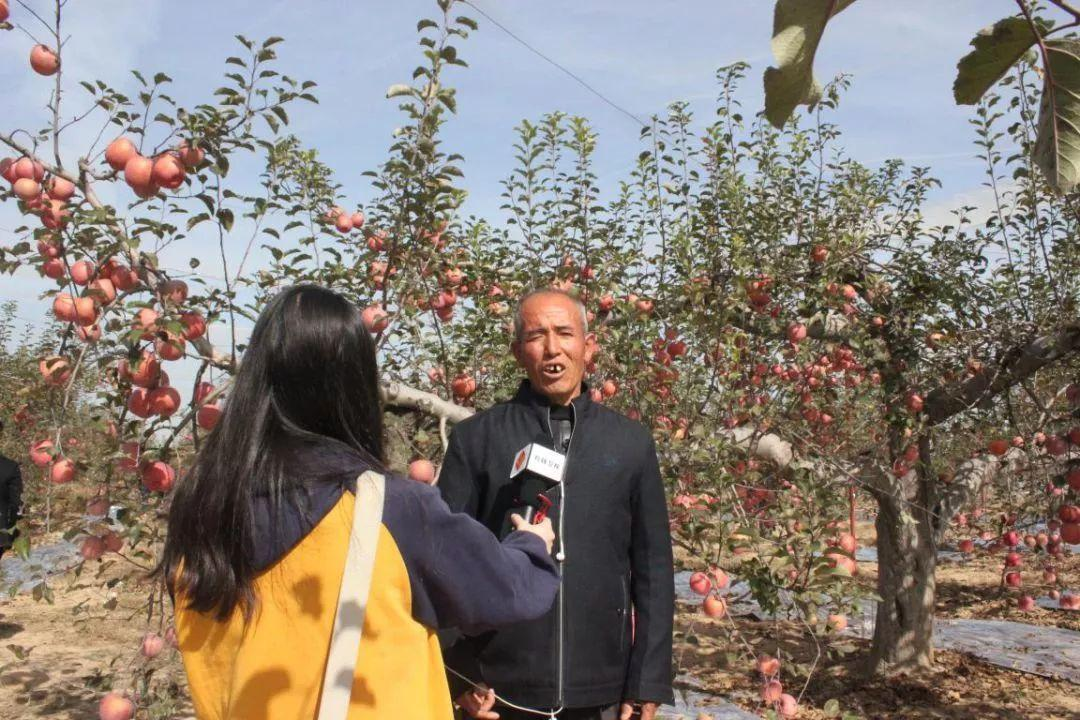apple: (103, 137, 202, 200), (127, 152, 180, 195), (150, 152, 185, 188), (123, 154, 154, 192), (174, 138, 205, 171), (27, 43, 58, 75), (104, 137, 137, 167), (154, 337, 183, 360)
